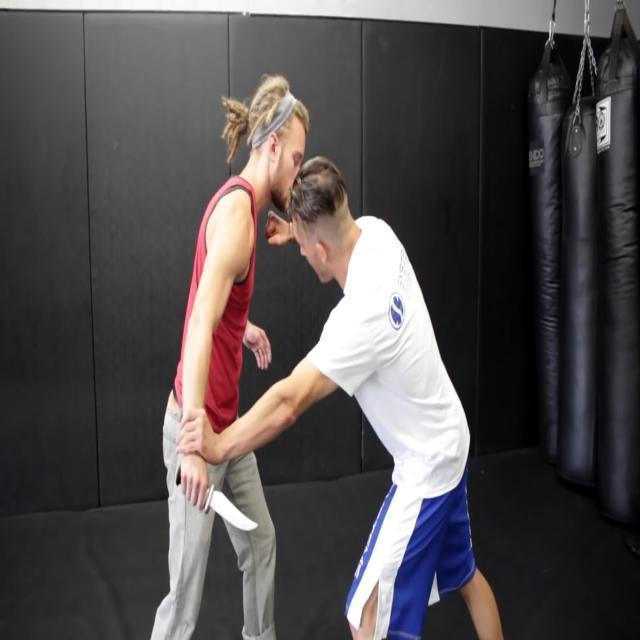-: (172, 459, 262, 541)
